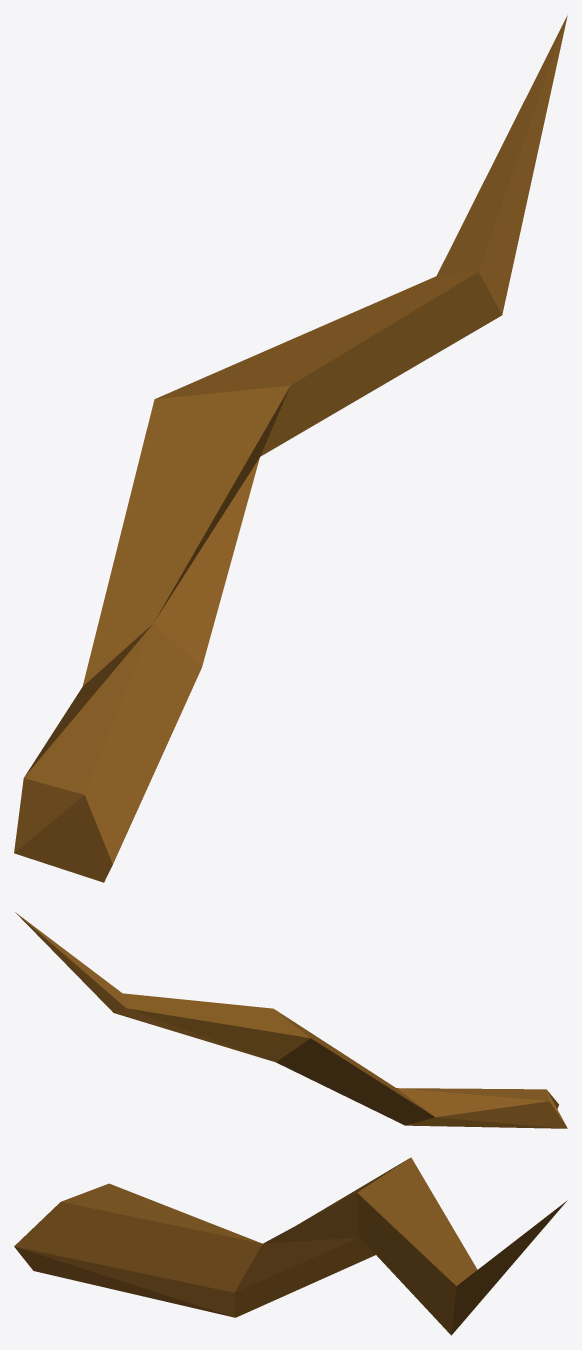
File: Rametto.fbx
3 renders of one model, top to bottom at view 1: azimuth 30°, elevation 25°; view 2: azimuth 150°, elevation 25°; view 3: azimuth 270°, elevation 25°, orthographic. The views are drawn at different scales.
Visible parts, largest first — view 1: node-0.001; view 2: node-0.001; view 3: node-0.001.
Part boxes in pixels (x1,y1,x2,y2): node-0.001: (14,15,567,882); node-0.001: (15,912,567,1128); node-0.001: (14,1157,567,1335).
Bounding box in the file's own units: 154 × 81.21 × 102.
